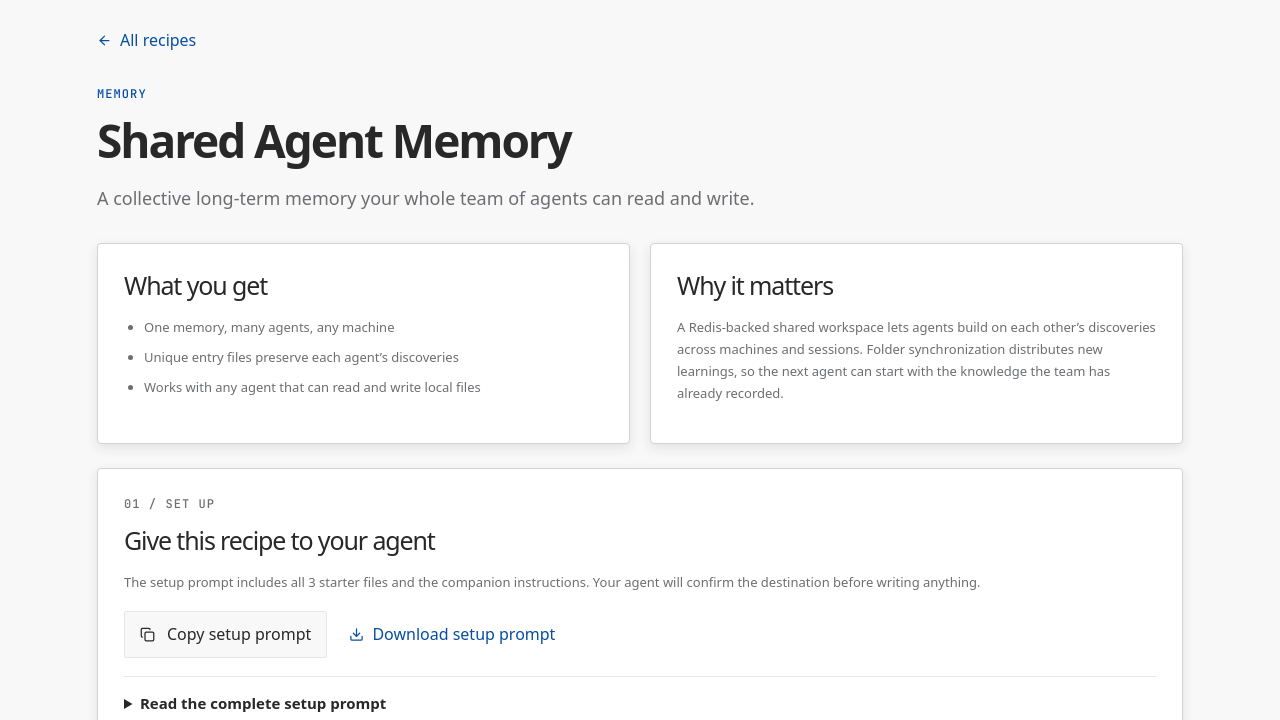
copies the complete setup prompt without exposing the console token
This screenshot has width=1280, height=720.
Click the button "Copy setup prompt" at x=226, y=634, box [124,611,327,658]
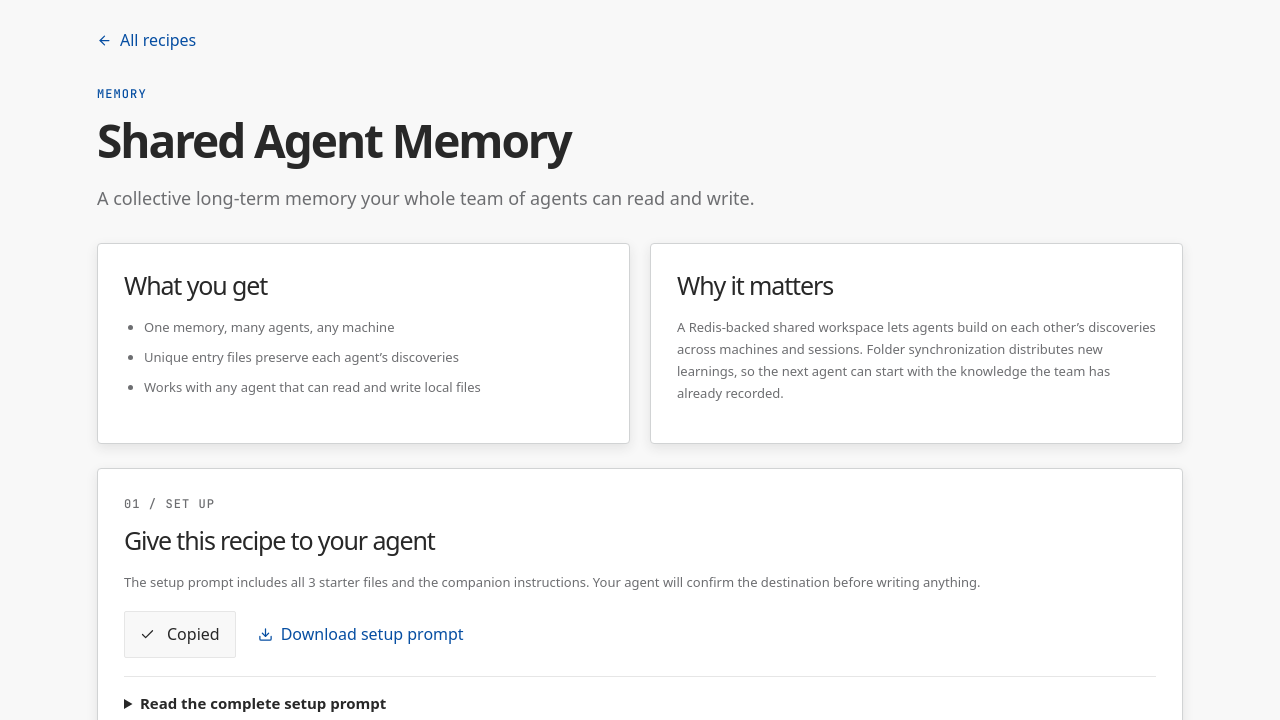
Result: the button "Copied" is shown at [124,611,236,658]
